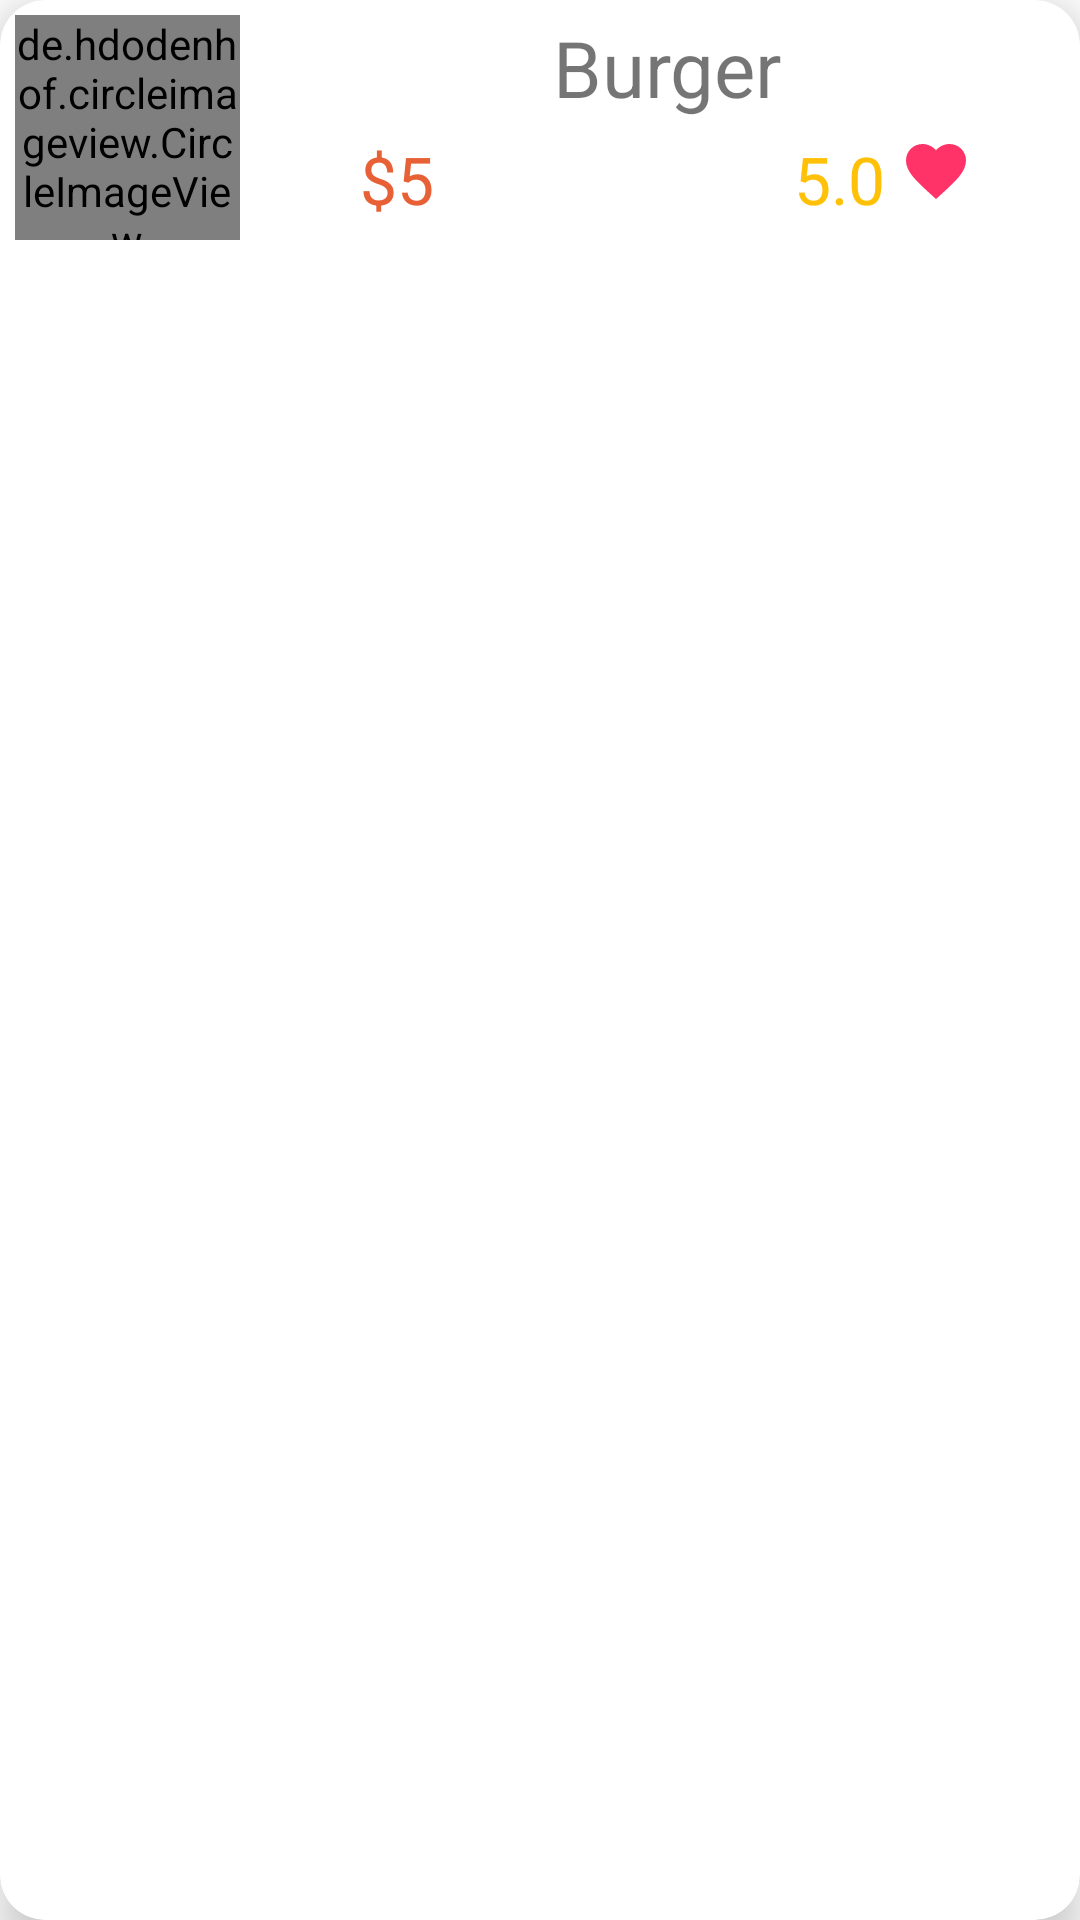

Locate icon controls on the screen. Image size 1080w x 1920h, boxes as (x1, y1, x2, y2).
favorite: (906, 144, 966, 199)
